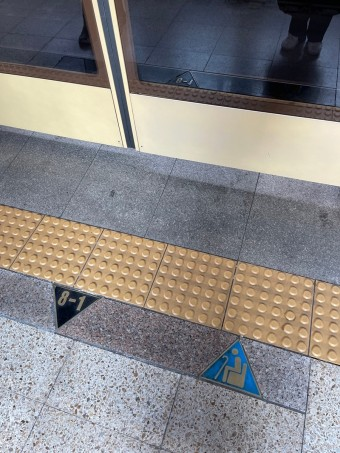warningBlock: (242, 268, 309, 355), (165, 245, 229, 322), (19, 216, 92, 279), (93, 234, 162, 299)
